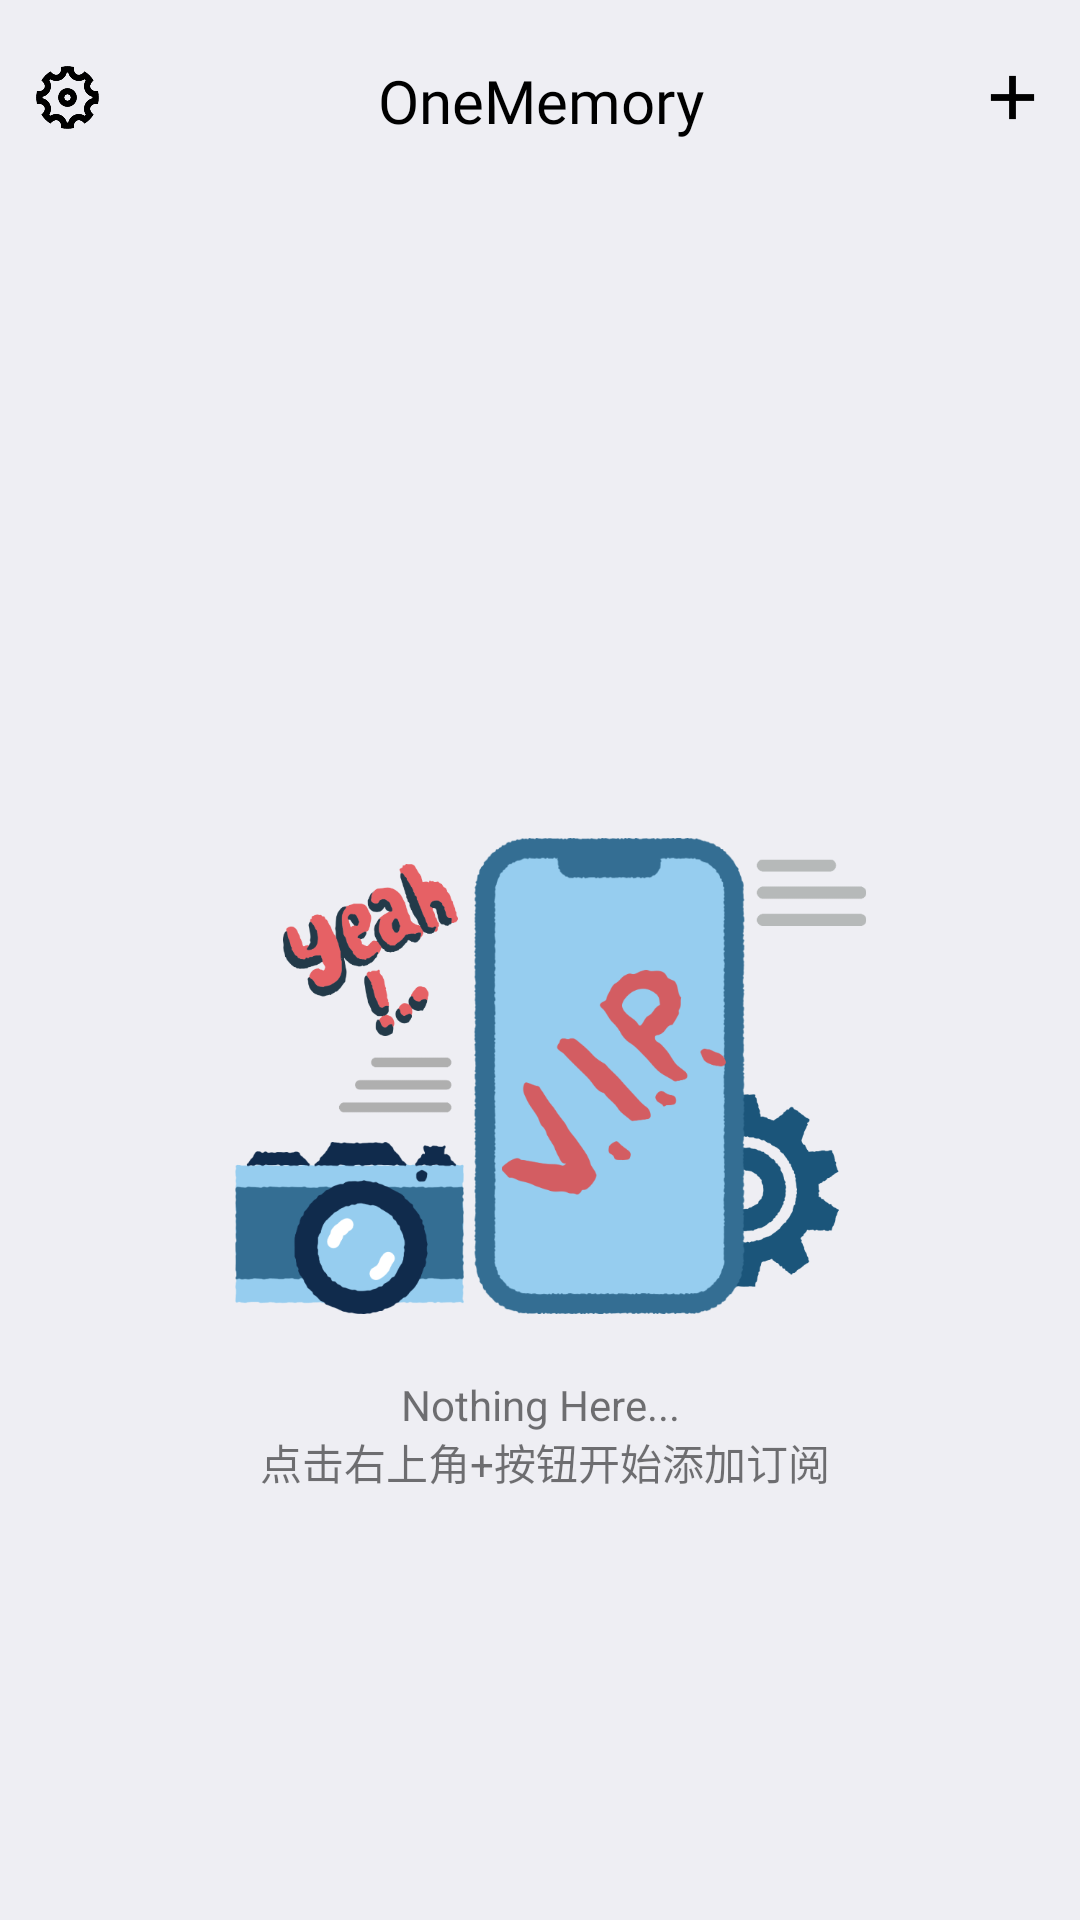

Icon click points for this 1080px x 1920px phone screenshot, format [x,y]:
add: [1012,97]
settings: [67,97]
